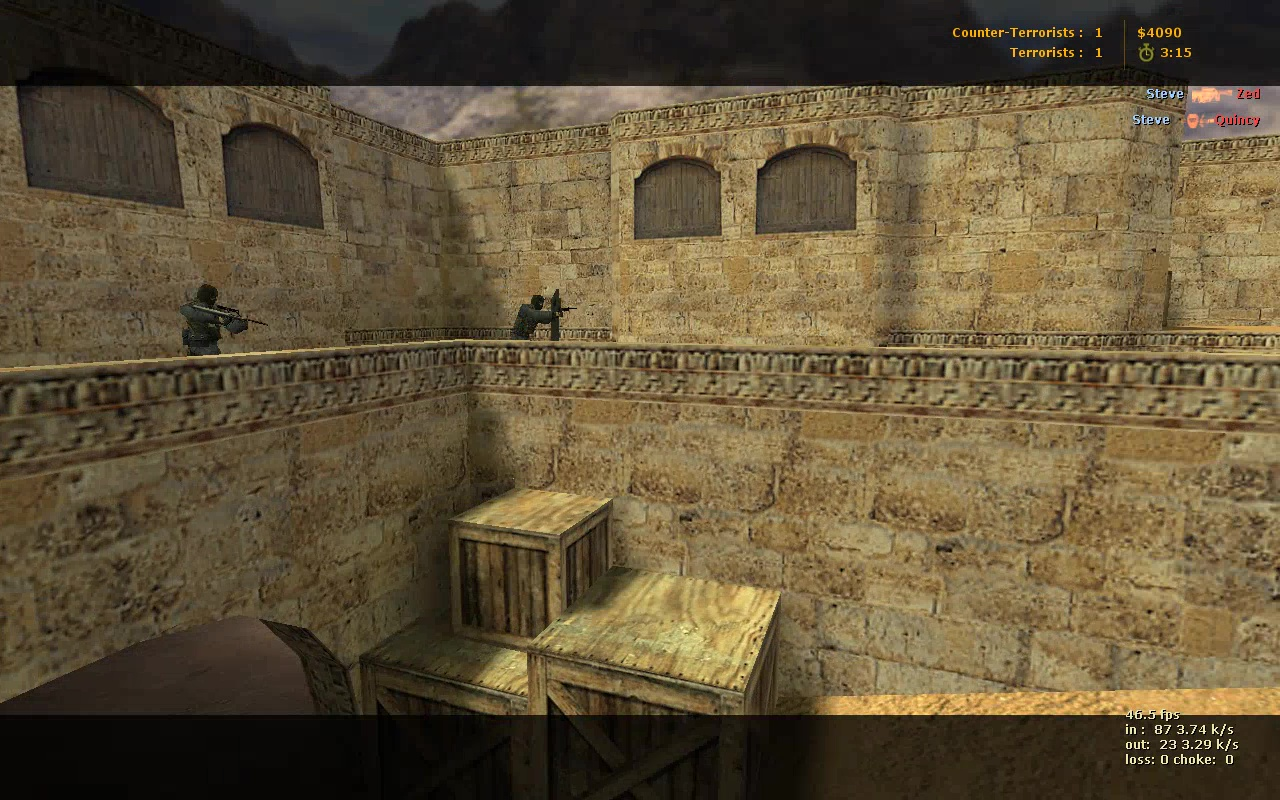ct: (179, 285, 252, 357), (512, 292, 561, 341)
